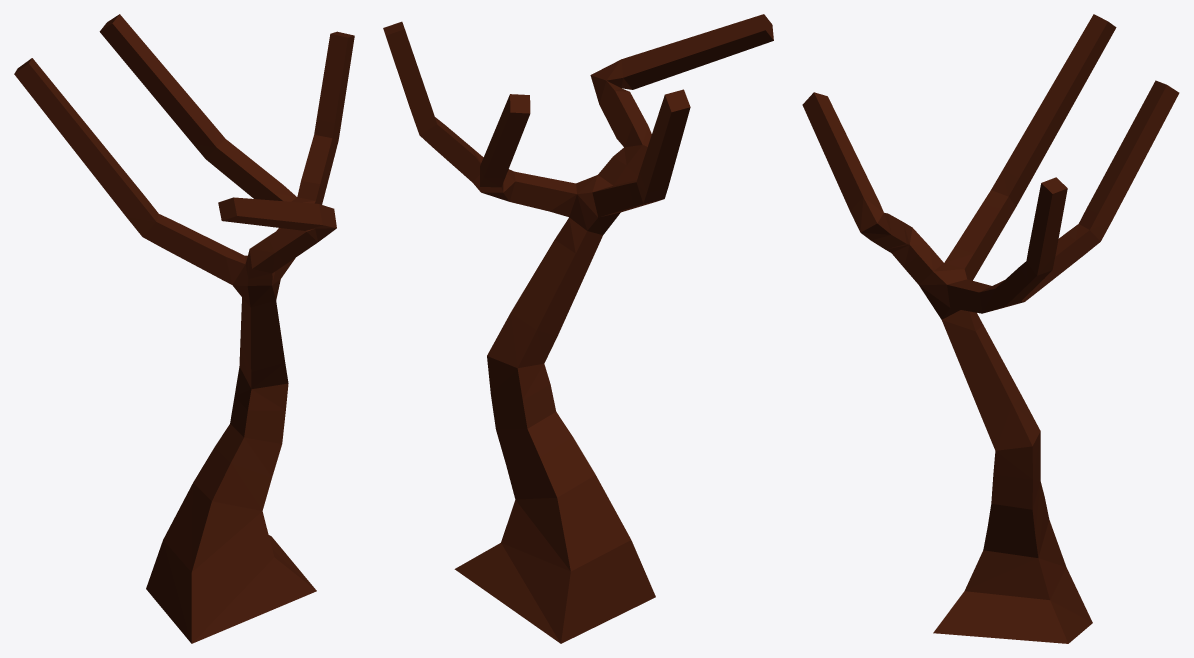
The model's file is DesertTree3.fbx.
3 views of the same model, side by side, from view 1: azimuth 30°, elevation 25°; view 2: azimuth 150°, elevation 25°; view 3: azimuth 270°, elevation 25° (orthographic). The views are drawn at different scales.
Parts seen in each view (by area): view 1: deserttree3; view 2: deserttree3; view 3: deserttree3.
Boxes of the visible parts, left/top/right/bottom form: deserttree3: left=14, top=14, right=354, bottom=643; deserttree3: left=383, top=14, right=773, bottom=643; deserttree3: left=802, top=14, right=1179, bottom=643.
Bounding box in the file's own units: 370 × 619 × 383.
